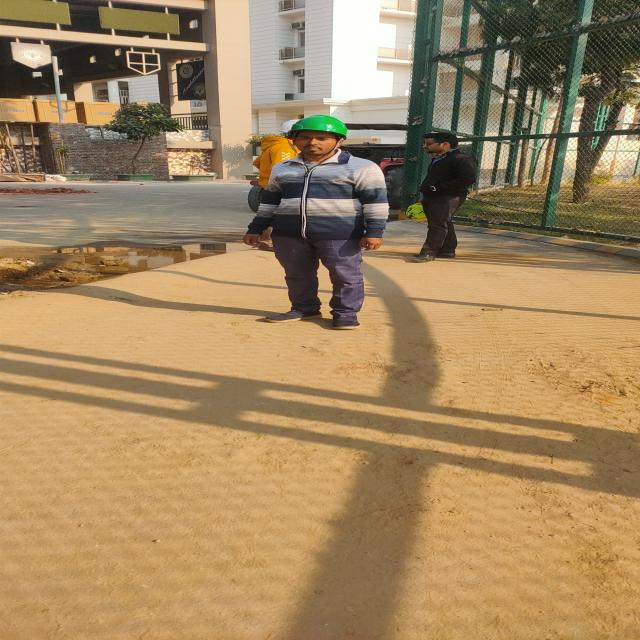no jacket: (246, 115, 390, 330)
unsafe: (412, 132, 474, 262)
